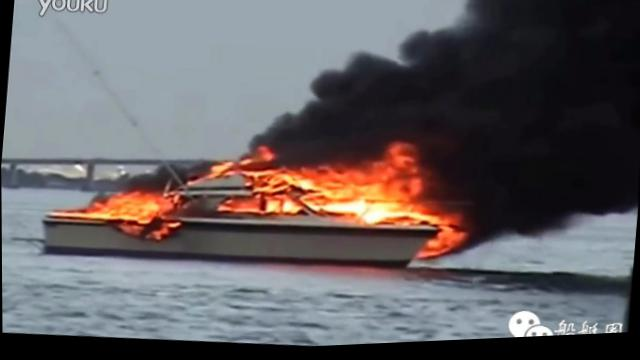fire: (294, 161, 382, 224), (378, 143, 424, 223), (238, 164, 298, 221), (87, 188, 168, 224), (417, 210, 466, 234), (433, 228, 462, 252)
